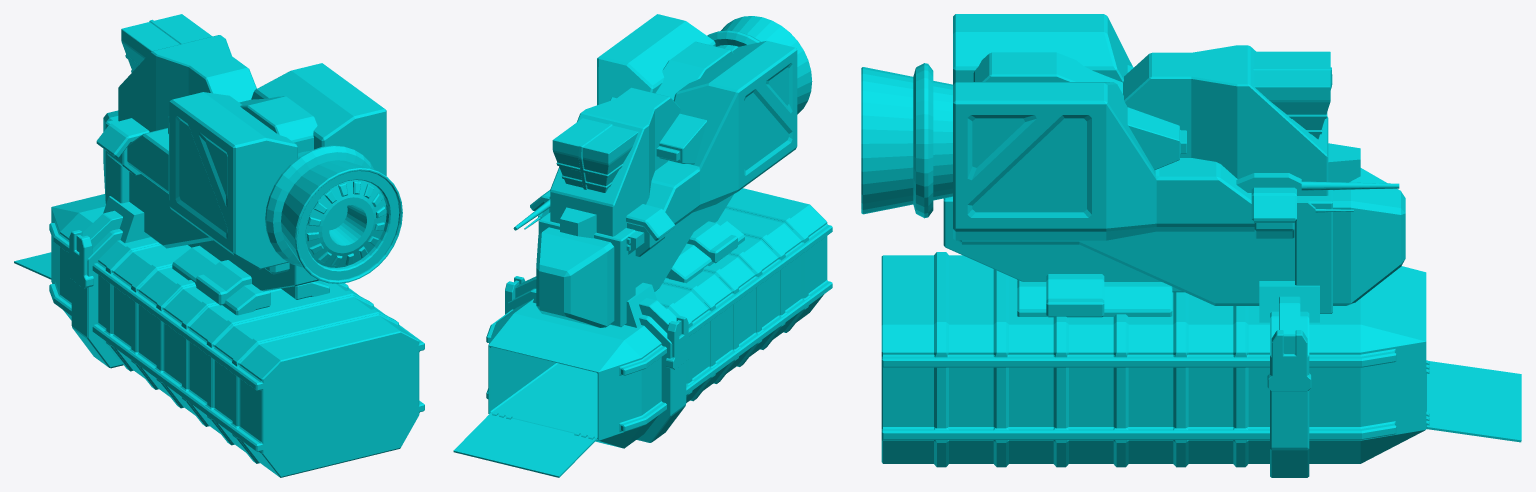
Rendered from cargoship_joint.fbx.
3 renders of one model, left to right at view 1: azimuth 30°, elevation 25°; view 2: azimuth 150°, elevation 25°; view 3: azimuth 270°, elevation 25°, orthographic. The views are drawn at different scales.
Visible parts, largest first — view 1: container_big, laadklep; view 2: container_big, laadklep; view 3: container_big, laadklep.
Boxes of the visible parts, x1,y1,x2,y2 form: container_big: [49, 14, 424, 477]; laadklep: [14, 252, 51, 279]; container_big: [486, 14, 832, 448]; laadklep: [453, 413, 595, 477]; container_big: [861, 14, 1429, 477]; laadklep: [1426, 361, 1521, 442].
Bounding box in the file's own units: 3029 × 5051 × 7897.
